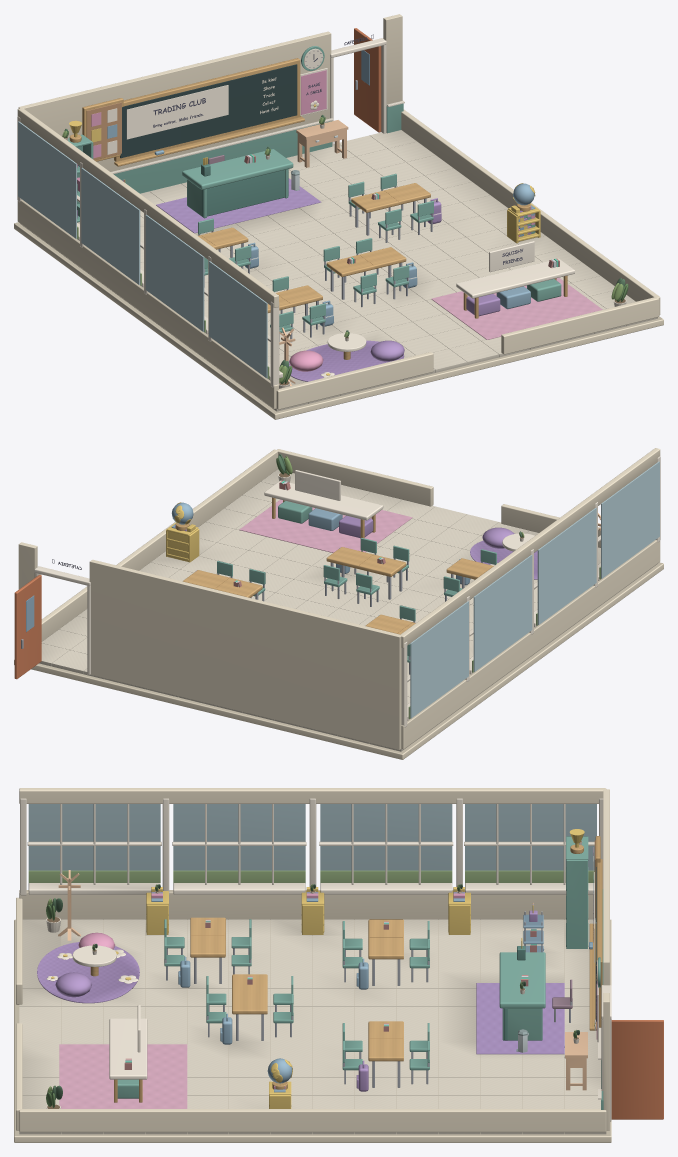
Rendered from classroom.glb.
3 renders of one model, top to bottom at view 1: azimuth 30°, elevation 25°; view 2: azimuth 150°, elevation 25°; view 3: azimuth 270°, elevation 25°, orthographic. The views are drawn at different scales.
Visible parts, largest first — view 1: classroom; view 2: classroom; view 3: classroom.
Boxes of the visible parts, x1,y1,x2,y2 form: classroom: (14,14,663,419); classroom: (14,448,663,759); classroom: (14,788,663,1142).
Bounding box in the file's own units: 12.31 × 3.66 × 15.49.
Materials: 35 (4 with a texture image).
